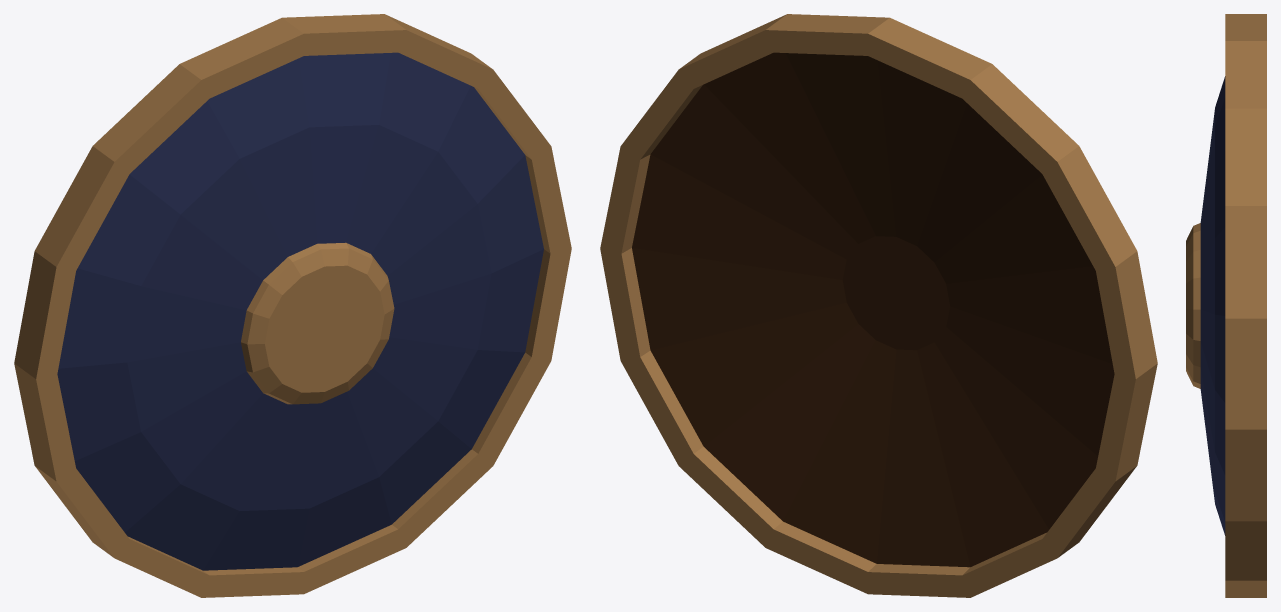
File: 002_Round_Shield.fbx
3 renders of one model, left to right at view 1: azimuth 30°, elevation 25°; view 2: azimuth 150°, elevation 25°; view 3: azimuth 270°, elevation 25°, orthographic. The views are drawn at different scales.
Visible parts, largest first — view 1: Round Shield; view 2: Round Shield; view 3: Round Shield.
Part boxes in pixels (bbox=[...]): Round Shield: bbox=[14, 14, 571, 597]; Round Shield: bbox=[600, 14, 1157, 597]; Round Shield: bbox=[1186, 14, 1266, 597].
Size of the model in its own units: 50 by 50 by 6.91.
